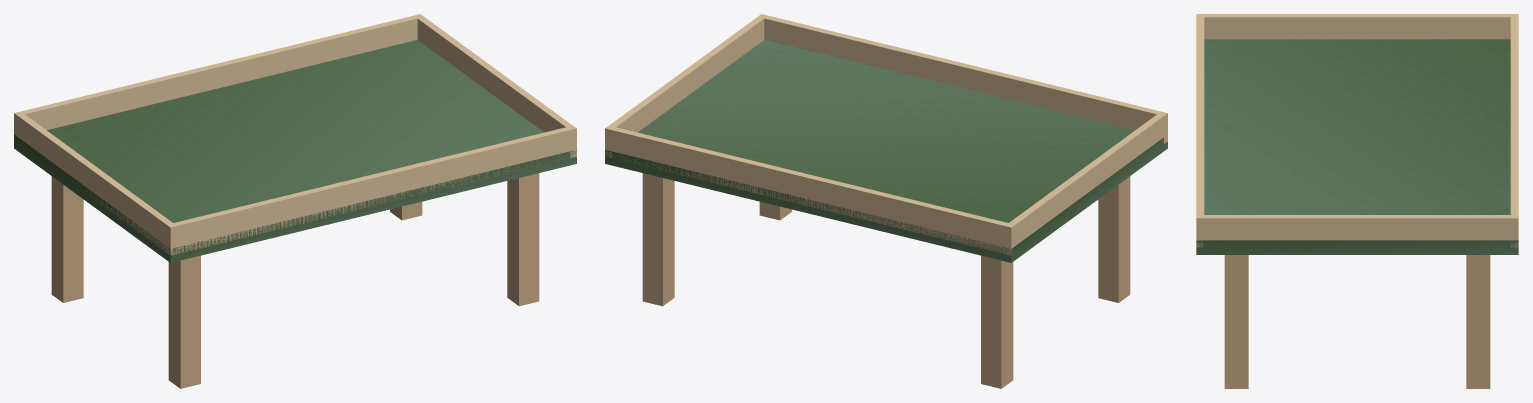
Rendered from state-default.glb.
The picture shows the model from 3 angles, left to right: view 1: azimuth 30°, elevation 25°; view 2: azimuth 150°, elevation 25°; view 3: azimuth 270°, elevation 25°; orthographic projection. The views are drawn at different scales.
Parts seen in each view (by area): view 1: assetPrim:bfeb41524c65f8-19c74468aea:tray-base, assetPrim:bfeb41524c65f8-19c74468aea:tray-rim-front, assetPrim:bfeb41524c65f8-19c74468aea:tray-rim-back, assetPrim:bfeb41524c65f8-19c74468aea:tray-rim-left, assetPrim:bfeb41524c65f8-19c74468aea:tray-rim-right, assetPrim:bfeb41524c65f8-19c74468aea:leg-fr, assetPrim:bfeb41524c65f8-19c74468aea:leg-fl, assetPrim:bfeb41524c65f8-19c74468aea:leg-bl; view 2: assetPrim:bfeb41524c65f8-19c74468aea:tray-base, assetPrim:bfeb41524c65f8-19c74468aea:tray-rim-back, assetPrim:bfeb41524c65f8-19c74468aea:tray-rim-front, assetPrim:bfeb41524c65f8-19c74468aea:tray-rim-left, assetPrim:bfeb41524c65f8-19c74468aea:tray-rim-right, assetPrim:bfeb41524c65f8-19c74468aea:leg-br, assetPrim:bfeb41524c65f8-19c74468aea:leg-bl, assetPrim:bfeb41524c65f8-19c74468aea:leg-fl; view 3: assetPrim:bfeb41524c65f8-19c74468aea:tray-base, assetPrim:bfeb41524c65f8-19c74468aea:tray-rim-left, assetPrim:bfeb41524c65f8-19c74468aea:tray-rim-right, assetPrim:bfeb41524c65f8-19c74468aea:leg-fr, assetPrim:bfeb41524c65f8-19c74468aea:leg-br, assetPrim:bfeb41524c65f8-19c74468aea:tray-rim-front, assetPrim:bfeb41524c65f8-19c74468aea:tray-rim-back.
Boxes of the visible parts, left/top/right/bottom form: assetPrim:bfeb41524c65f8-19c74468aea:tray-base: left=14, top=40, right=576, bottom=262; assetPrim:bfeb41524c65f8-19c74468aea:tray-rim-front: left=166, top=126, right=576, bottom=255; assetPrim:bfeb41524c65f8-19c74468aea:tray-rim-back: left=14, top=14, right=423, bottom=136; assetPrim:bfeb41524c65f8-19c74468aea:tray-rim-left: left=14, top=111, right=177, bottom=254; assetPrim:bfeb41524c65f8-19c74468aea:tray-rim-right: left=415, top=14, right=576, bottom=157; assetPrim:bfeb41524c65f8-19c74468aea:leg-fr: left=507, top=173, right=539, bottom=306; assetPrim:bfeb41524c65f8-19c74468aea:leg-fl: left=168, top=255, right=200, bottom=388; assetPrim:bfeb41524c65f8-19c74468aea:leg-bl: left=51, top=176, right=83, bottom=302; assetPrim:bfeb41524c65f8-19c74468aea:tray-base: left=605, top=40, right=1167, bottom=262; assetPrim:bfeb41524c65f8-19c74468aea:tray-rim-back: left=605, top=126, right=1015, bottom=255; assetPrim:bfeb41524c65f8-19c74468aea:tray-rim-front: left=758, top=14, right=1167, bottom=143; assetPrim:bfeb41524c65f8-19c74468aea:tray-rim-left: left=1005, top=111, right=1167, bottom=255; assetPrim:bfeb41524c65f8-19c74468aea:tray-rim-right: left=605, top=14, right=767, bottom=157; assetPrim:bfeb41524c65f8-19c74468aea:leg-br: left=642, top=173, right=674, bottom=306; assetPrim:bfeb41524c65f8-19c74468aea:leg-bl: left=981, top=255, right=1013, bottom=388; assetPrim:bfeb41524c65f8-19c74468aea:leg-fl: left=1098, top=176, right=1130, bottom=302; assetPrim:bfeb41524c65f8-19c74468aea:tray-base: left=1196, top=39, right=1518, bottom=254; assetPrim:bfeb41524c65f8-19c74468aea:tray-rim-left: left=1196, top=14, right=1518, bottom=39; assetPrim:bfeb41524c65f8-19c74468aea:tray-rim-right: left=1198, top=215, right=1510, bottom=244; assetPrim:bfeb41524c65f8-19c74468aea:leg-fr: left=1224, top=255, right=1248, bottom=388; assetPrim:bfeb41524c65f8-19c74468aea:leg-br: left=1466, top=255, right=1490, bottom=388; assetPrim:bfeb41524c65f8-19c74468aea:tray-rim-front: left=1196, top=14, right=1204, bottom=247; assetPrim:bfeb41524c65f8-19c74468aea:tray-rim-back: left=1510, top=14, right=1518, bottom=247.
Bounding box in the file's own units: 0.6 × 0.25 × 0.4.
Materials: 9 (1 with a texture image).
